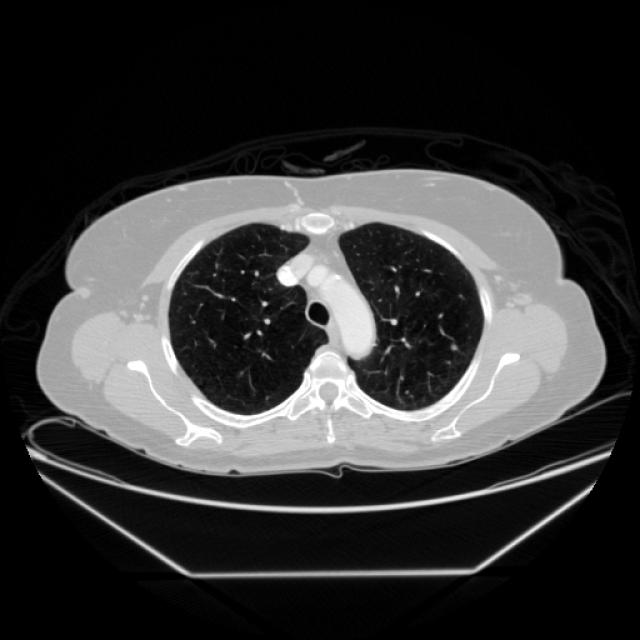nodule: (444, 337, 461, 355)
